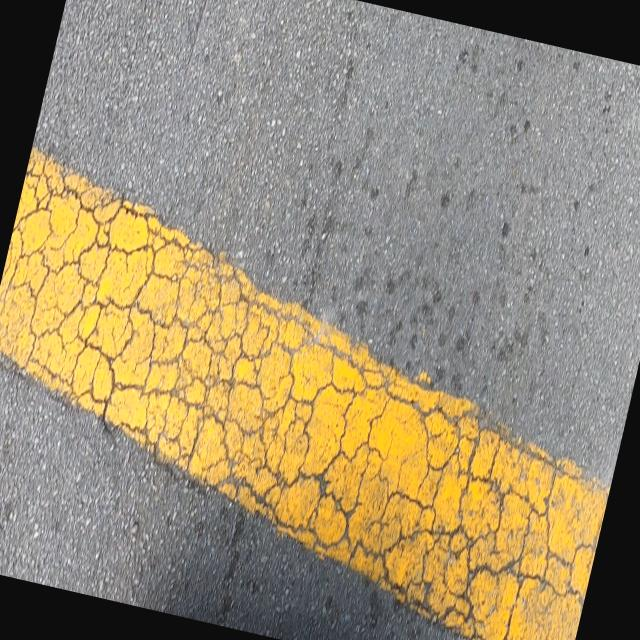Retak-Buaya: (0, 153, 595, 640)
